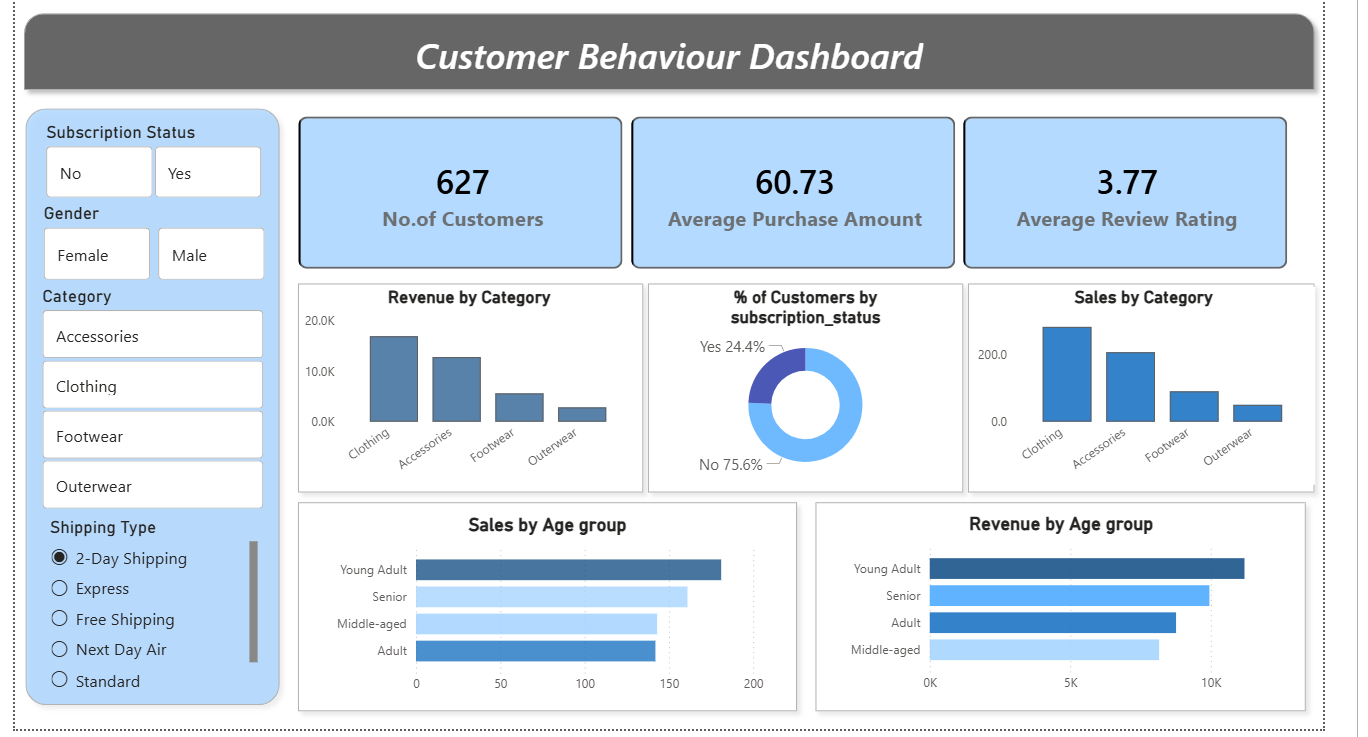

The page's visual inventory and layout, read from the dashboard file:
{"tool":"powerbi","page":{"name":"Page 1","canvas":[1280,720],"ordinal":0},"visuals":[{"type":"cardVisual","fields":{"Data":["customer cust_behavior.No.of Customers","customer cust_behavior.Average Purchase Amount","customer cust_behavior.Average Review Rating"]},"box":[260.5,103.9,1002.7,183.4],"z":0},{"type":"shape","box":[0,11,1280.3,92.9],"z":1000},{"type":"shape","box":[267.8,275.1,355.8,222.6],"z":2000},{"type":"shape","box":[1.2,103.9,266.6,601.6],"z":3000},{"type":"shape","box":[267.8,489.1,506.3,222.6],"z":4000},{"type":"shape","box":[774.1,489.1,497.7,222.6],"z":5000},{"type":"clusteredColumnChart","title":"Revenue by Category","fields":{"Y":["Sum(customer cust_behavior.purchase_amount)"],"Category":["customer cust_behavior.category"]},"box":[278.8,287.4,331.4,193.2],"z":6000},{"type":"advancedSlicerVisual","title":"Subscription Status","fields":{"Values":["customer cust_behavior.subscription_status"]},"box":[25.7,126,221.3,79.5],"z":7000},{"type":"advancedSlicerVisual","title":"Gender","fields":{"Values":["customer cust_behavior.gender"]},"box":[23.2,205.4,226.2,80.7],"z":8000},{"type":"advancedSlicerVisual","title":"Category","fields":{"Values":["customer cust_behavior.category"]},"box":[22,286.1,226.2,226.2],"z":9000},{"type":"shape","box":[610.2,275.1,326.5,222.6],"z":10000},{"type":"shape","box":[923.2,275.1,357.1,222.6],"z":11000},{"type":"donutChart","title":"% of Customers by subscription_status","fields":{"Category":["customer cust_behavior.subscription_status"],"Y":["customer cust_behavior.No.of Customers"]},"box":[623.6,287.4,299.6,193.2],"z":12000},{"type":"clusteredColumnChart","title":"Sales by Category","fields":{"Category":["customer cust_behavior.category"],"Y":["CountNonNull(customer cust_behavior.customer_id)"]},"box":[936.7,287.4,335.1,193.2],"z":13000},{"type":"listSlicer","title":"Shipping Type","fields":{"Values":["customer cust_behavior.shipping_type"]},"box":[29.3,512.4,214,176.1],"z":14000},{"type":"clusteredBarChart","title":"Revenue by Age group","fields":{"Y":["Sum(customer cust_behavior.purchase_amount)"],"Category":["customer cust_behavior.age_group"]},"box":[807.1,508.7,432.9,184.6],"z":15000},{"type":"clusteredBarChart","title":"Sales by Age group","fields":{"Category":["customer cust_behavior.age_group"],"Y":["Count(customer cust_behavior.customer_id)"]},"box":[304.5,509.9,432.9,184.6],"z":16000}]}

Visuals, with their boxes on the page's 1280x720 design canvas (x1, y1, x2, y2). These are canvas units, not pixel positions in the 1368x737 screenshot, which may show the page scaled, cropped or inside an application window:
cardVisual - customer cust_behavior.No.of Customers x customer cust_behavior.Average Purchase Amount: <region>260, 104, 1263, 287</region>
shape: <region>0, 11, 1280, 104</region>
shape: <region>268, 275, 624, 498</region>
shape: <region>1, 104, 268, 706</region>
shape: <region>268, 489, 774, 712</region>
shape: <region>774, 489, 1272, 712</region>
"Revenue by Category" clusteredColumnChart: <region>279, 287, 610, 481</region>
"Subscription Status" advancedSlicerVisual: <region>26, 126, 247, 206</region>
"Gender" advancedSlicerVisual: <region>23, 205, 249, 286</region>
"Category" advancedSlicerVisual: <region>22, 286, 248, 512</region>
shape: <region>610, 275, 937, 498</region>
shape: <region>923, 275, 1280, 498</region>
"% of Customers by subscription_status" donutChart: <region>624, 287, 923, 481</region>
"Sales by Category" clusteredColumnChart: <region>937, 287, 1272, 481</region>
"Shipping Type" listSlicer: <region>29, 512, 243, 688</region>
"Revenue by Age group" clusteredBarChart: <region>807, 509, 1240, 693</region>
"Sales by Age group" clusteredBarChart: <region>304, 510, 737, 694</region>
